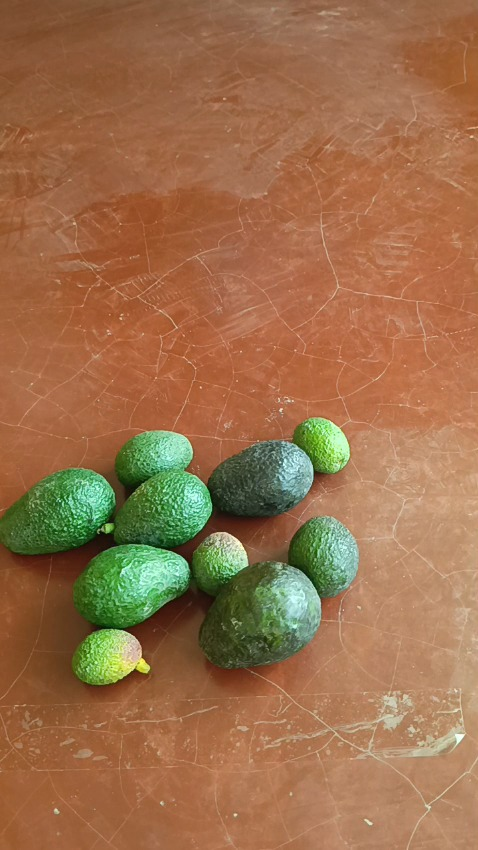Primera: (198, 560, 321, 667), (73, 542, 192, 628), (0, 468, 115, 554), (206, 440, 313, 516), (112, 469, 212, 547)
Segunda: (287, 515, 359, 596), (113, 430, 194, 488)
Tercera: (72, 627, 143, 684), (191, 531, 249, 596), (291, 417, 349, 473)
